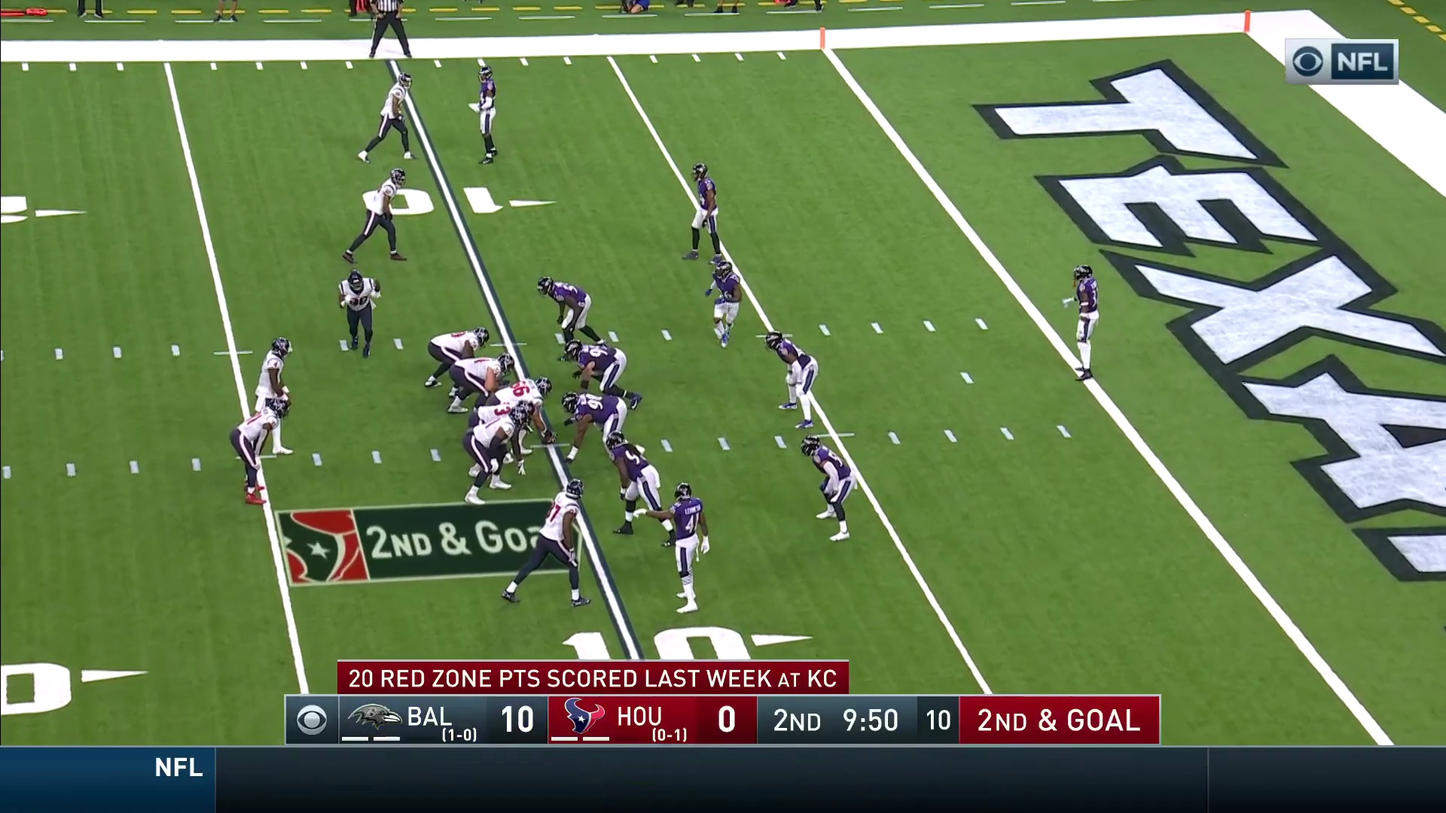Player: (230, 380, 289, 503), (464, 397, 525, 500), (484, 378, 549, 466), (670, 482, 706, 612), (610, 438, 662, 528), (563, 390, 627, 458), (254, 337, 291, 435), (339, 270, 380, 354), (447, 353, 507, 409), (565, 340, 626, 392), (708, 254, 741, 347), (1074, 264, 1099, 379)
